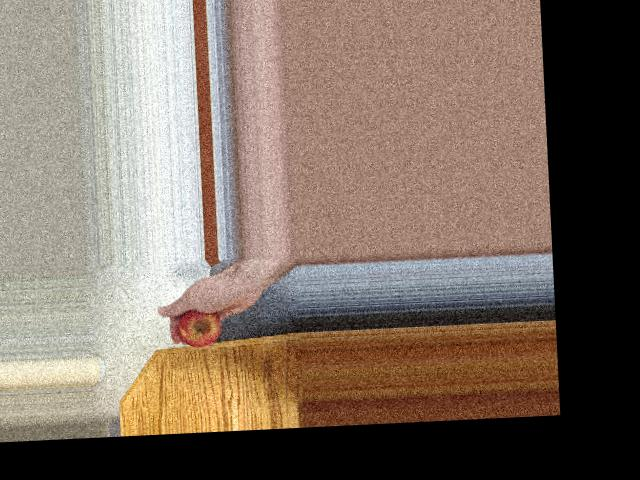apple: (173, 303, 224, 349)
